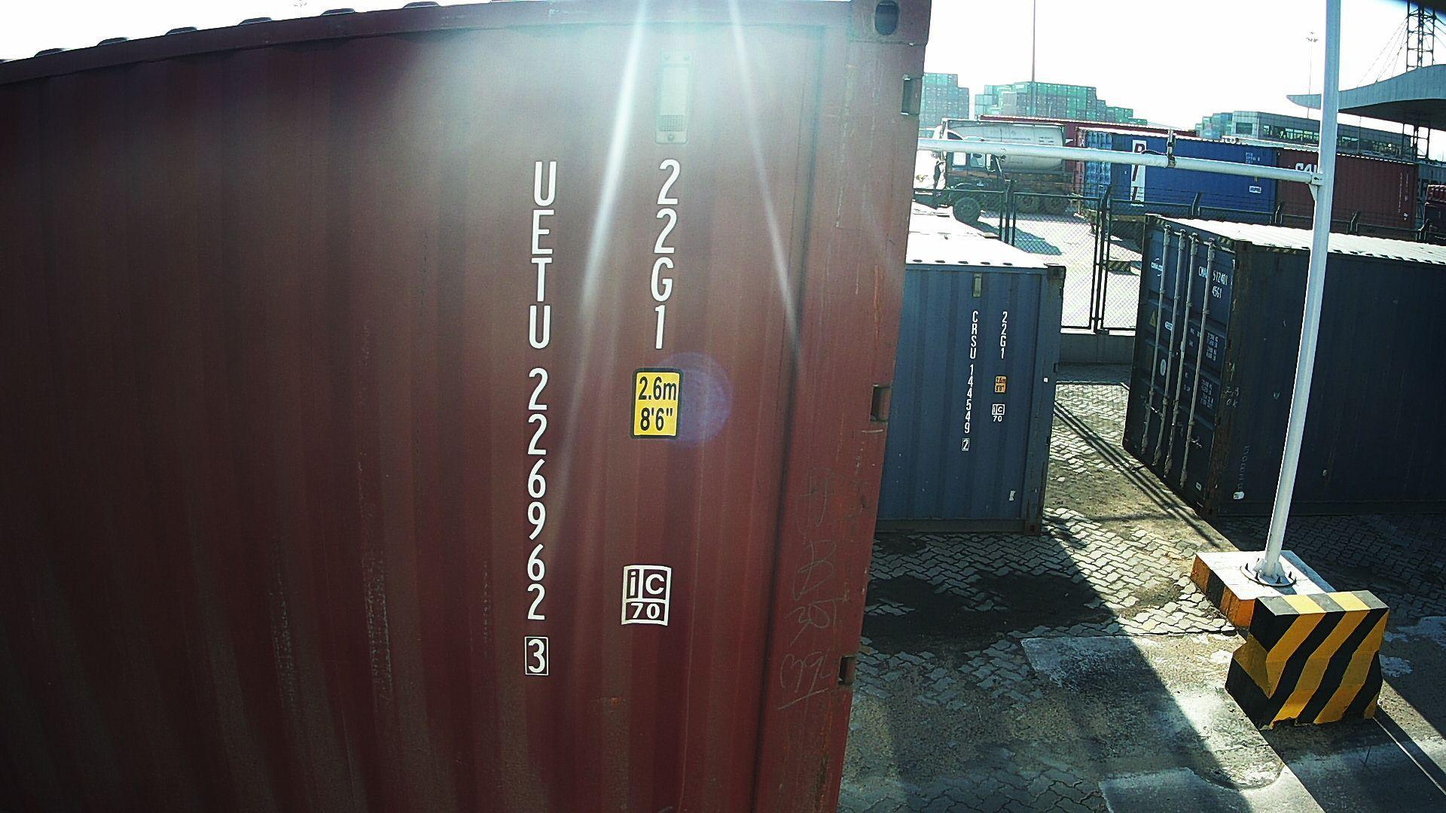container-numbers: (511, 151, 562, 678), (641, 155, 687, 353), (958, 305, 982, 456), (996, 308, 1012, 364)
